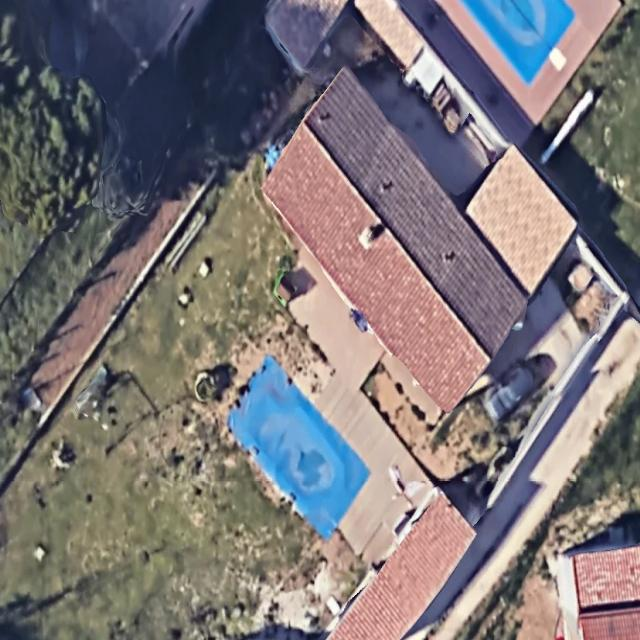maison: (214, 35, 602, 415), (556, 544, 639, 639)
